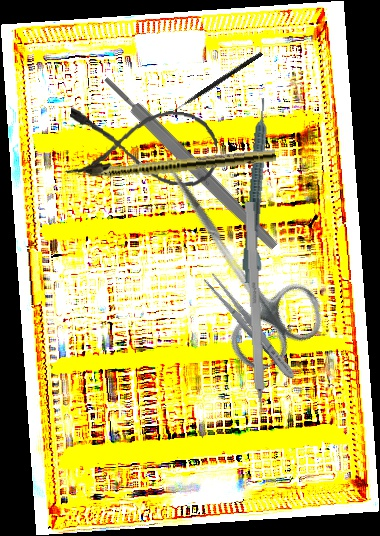Cannula: (65, 102, 220, 189)
Dressing Forceps: (200, 270, 301, 384)
Handpiece: (68, 146, 277, 184), (240, 97, 279, 285)
Hook Surgical: (169, 50, 263, 117), (244, 201, 267, 432)
Iris Scissors: (128, 145, 335, 379)
Scalpel Handle: (100, 72, 281, 253)
